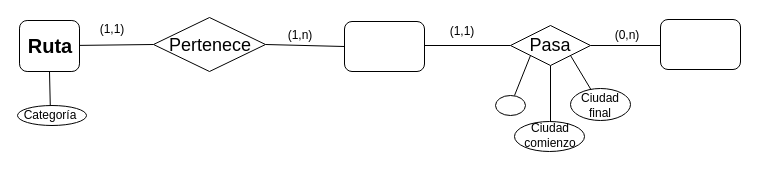
This 758x169 diagram has some shape labels left out. Here are the shapes that lost their labels. From the top down, the centre of each, then its label:
At point 384,46: "Tramo".
At point 700,44: "Ciudad".
At point 510,105: "Km".
